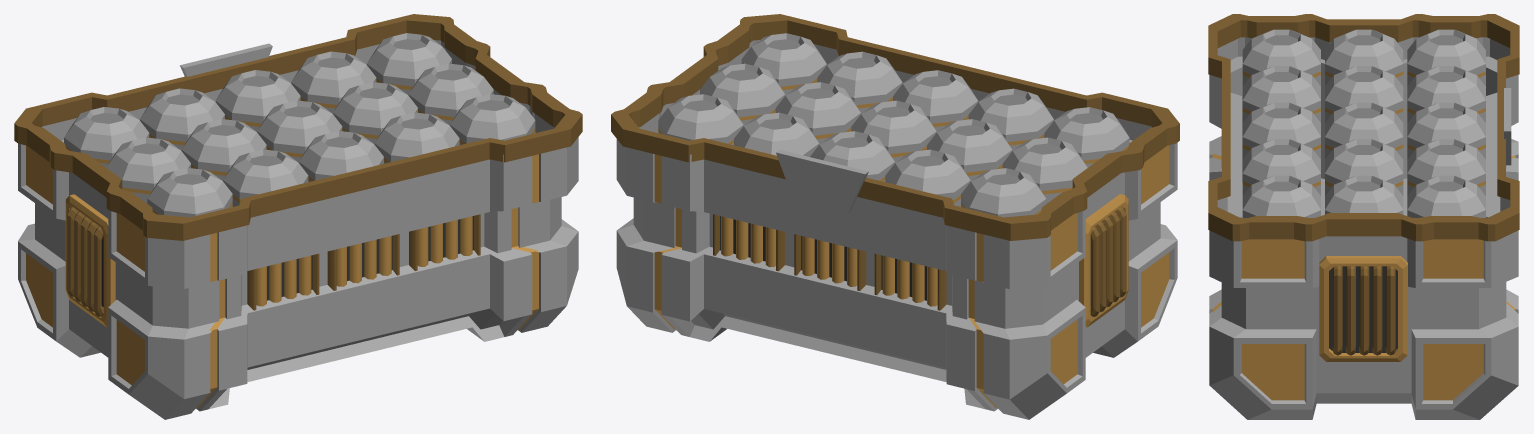
File: BatteryContainer.glb
The picture shows the model from 3 angles, left to right: view 1: azimuth 30°, elevation 25°; view 2: azimuth 150°, elevation 25°; view 3: azimuth 270°, elevation 25°; orthographic projection.
Parts seen in each view (by area): view 1: Props_ContainerFull; view 2: Props_ContainerFull; view 3: Props_ContainerFull.
Boxes of the visible parts, x1=… form: Props_ContainerFull: x1=14, y1=14, x2=582, y2=419; Props_ContainerFull: x1=611, y1=14, x2=1179, y2=419; Props_ContainerFull: x1=1208, y1=14, x2=1519, y2=419.
Size of the model in its own units: 1.2 by 0.5824 by 0.7517.
